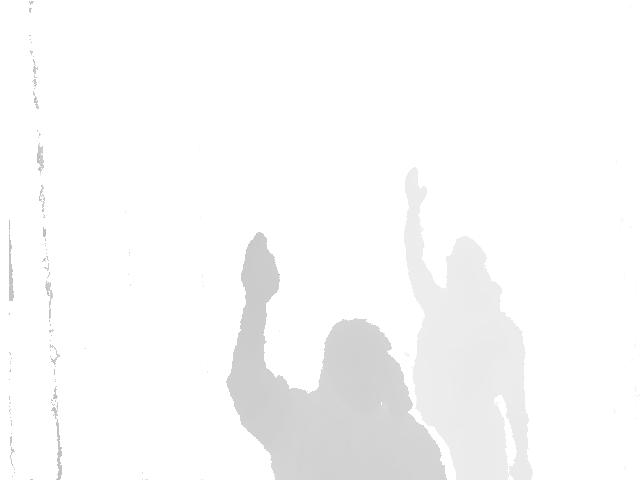hand: (240, 232, 281, 301), (404, 168, 427, 208)
head: (318, 318, 394, 405), (446, 237, 490, 291)
person: (225, 232, 447, 480), (404, 168, 534, 479)
